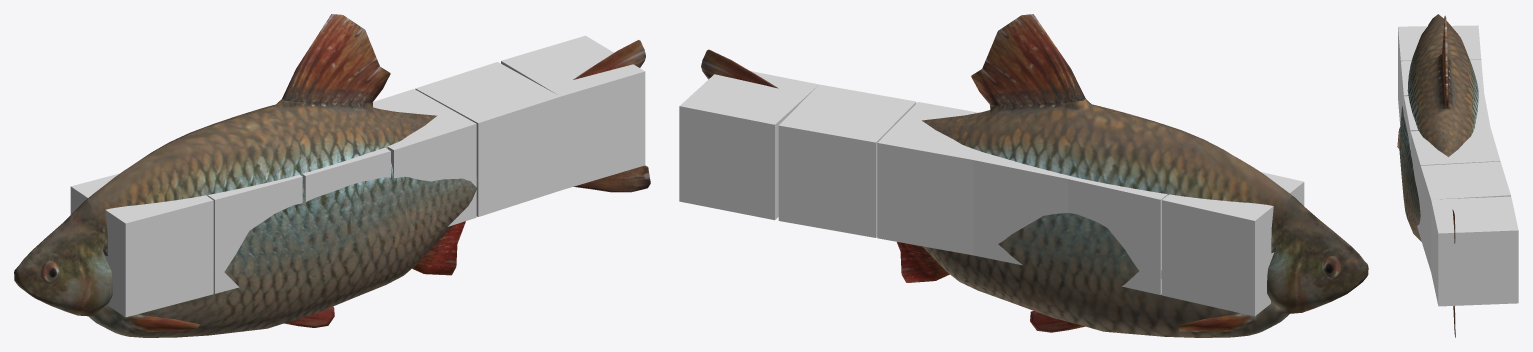
File: RuddFish.fbx
The picture shows the model from 3 angles, left to right: view 1: azimuth 30°, elevation 25°; view 2: azimuth 150°, elevation 25°; view 3: azimuth 270°, elevation 25°; orthographic projection. The views are drawn at different scales.
Parts seen in each view (by area): view 1: Rudd-Fish, CubeE, CubeF, CubeA, CubeD, CubeB, CubeC; view 2: Rudd-Fish, CubeE, CubeF, CubeA, CubeD, CubeC, CubeB; view 3: CubeF, Rudd-Fish, CubeE, CubeD, CubeA, CubeC, CubeB.
Boxes of the visible parts, left/top/right/bottom form: Rudd-Fish: left=14, top=14, right=650, bottom=337; CubeE: left=415, top=62, right=560, bottom=216; CubeF: left=501, top=35, right=645, bottom=190; CubeA: left=70, top=173, right=213, bottom=317; CubeD: left=372, top=89, right=476, bottom=226; CubeB: left=207, top=174, right=302, bottom=293; CubeC: left=302, top=147, right=390, bottom=202; Rudd-Fish: left=701, top=14, right=1368, bottom=337; CubeE: left=778, top=84, right=916, bottom=237; CubeF: left=679, top=71, right=818, bottom=220; CubeA: left=1162, top=172, right=1304, bottom=316; CubeD: left=877, top=102, right=982, bottom=255; CubeC: left=973, top=152, right=1070, bottom=265; CubeB: left=1067, top=176, right=1167, bottom=294; CubeF: left=1431, top=196, right=1518, bottom=306; Rudd-Fish: left=1397, top=14, right=1478, bottom=337; CubeE: left=1420, top=161, right=1510, bottom=271; CubeD: left=1410, top=127, right=1500, bottom=237; CubeA: left=1398, top=25, right=1481, bottom=125; CubeC: left=1404, top=94, right=1490, bottom=149; CubeB: left=1401, top=60, right=1484, bottom=116.
Size of the model in its own units: 1443 by 662 by 301.
